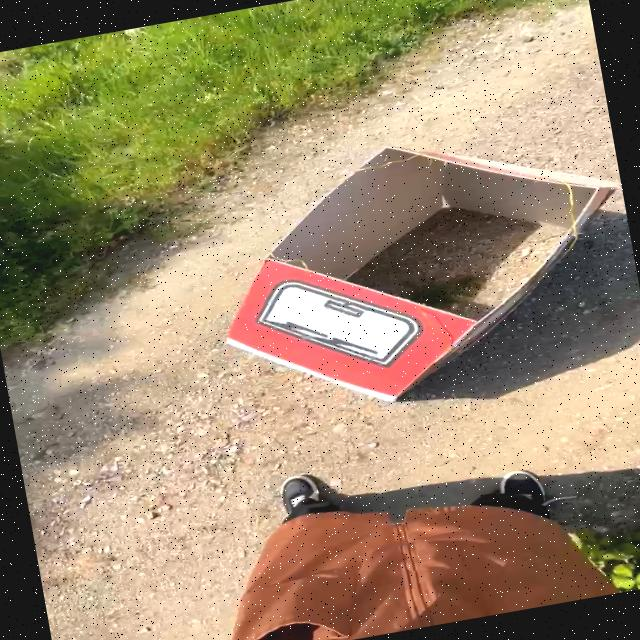red_car: (143, 90, 640, 440)
